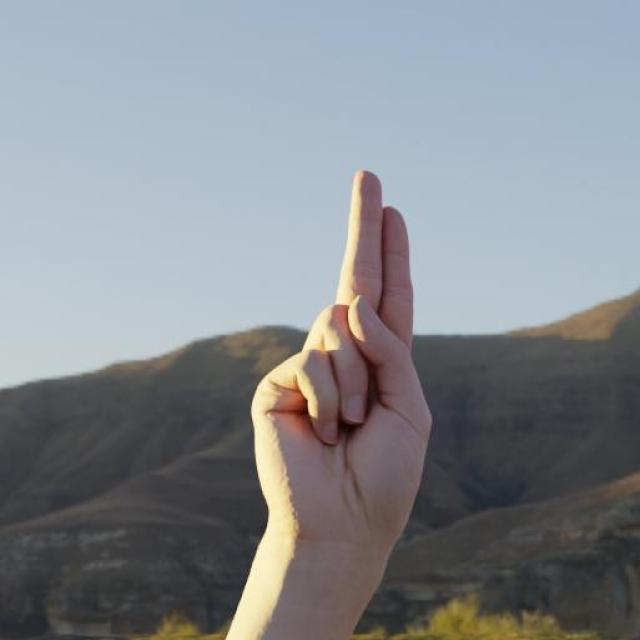U: (248, 168, 436, 552)
